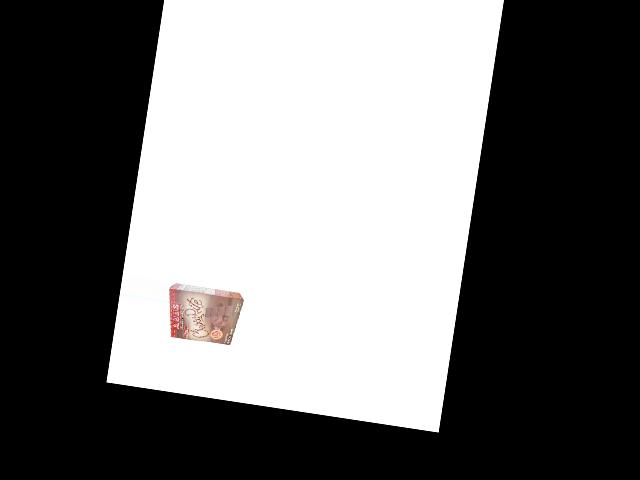chocolate: (164, 282, 244, 348)
